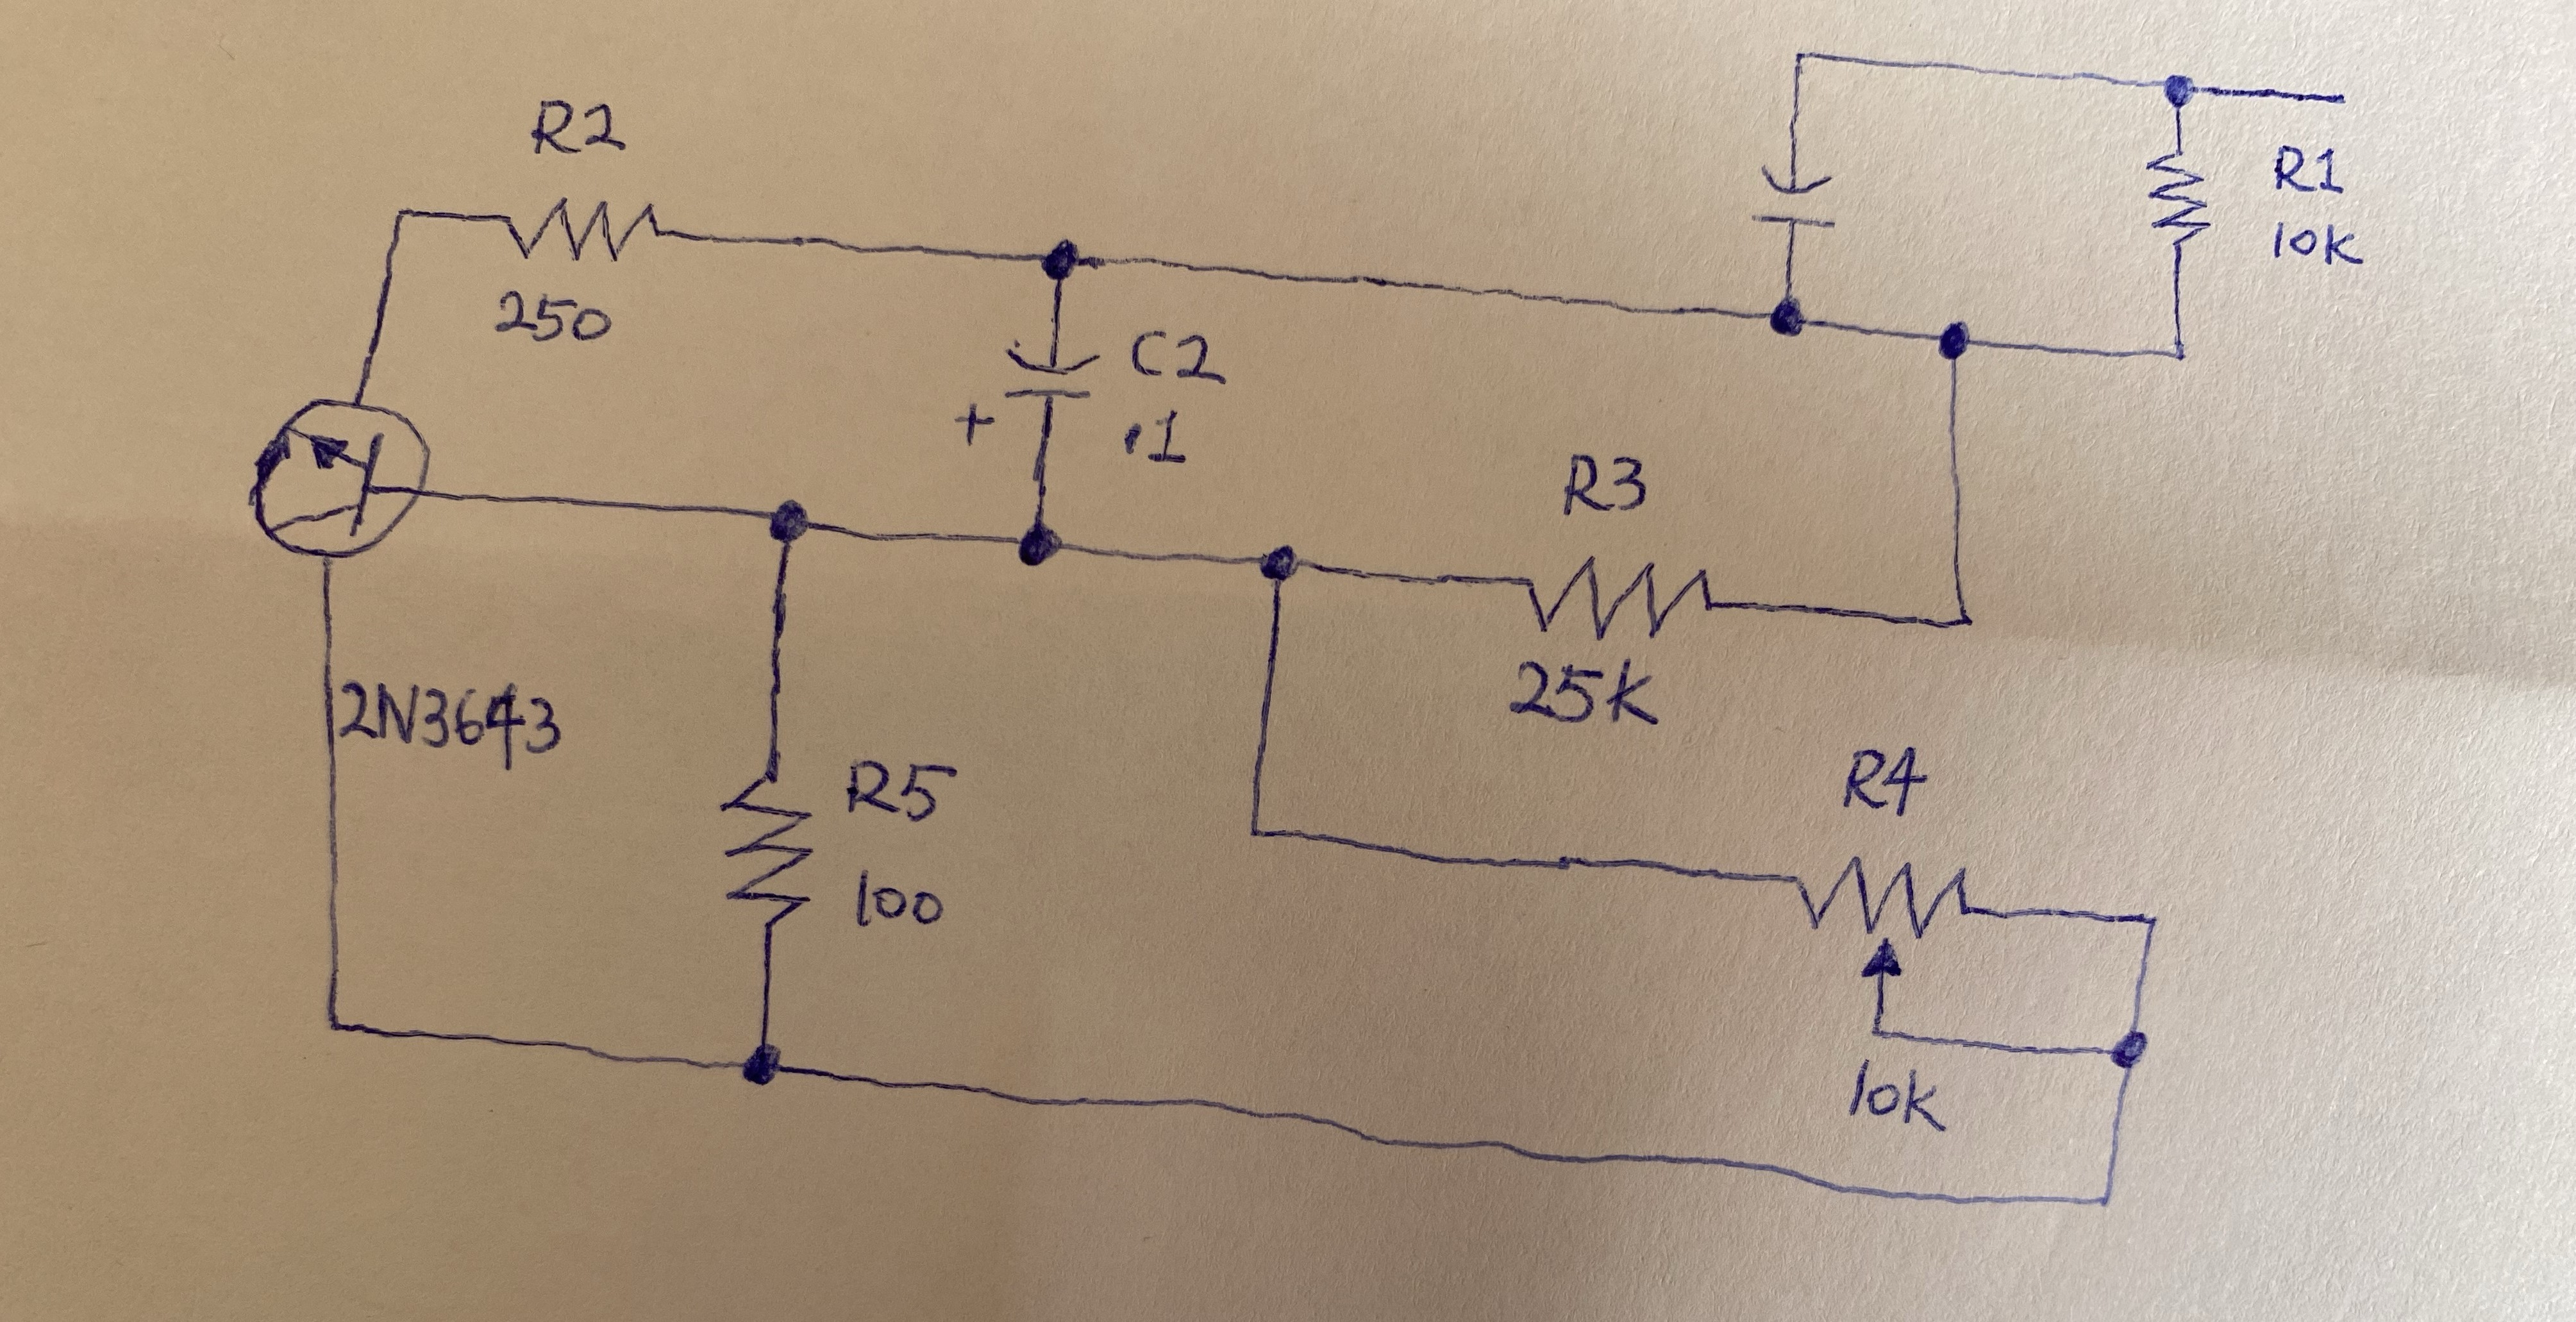capacitor.polarized: (951, 337, 1103, 447)
capacitor.unpolarized: (1741, 159, 1851, 239)
junction: (1219, 521, 1328, 609), (983, 501, 1084, 582), (743, 476, 836, 563), (1910, 288, 1998, 378), (715, 1025, 801, 1110), (2075, 1012, 2163, 1089), (1922, 578, 2004, 659), (300, 981, 378, 1062), (1752, 275, 1827, 352), (2106, 882, 2178, 958), (2141, 52, 2214, 126), (2069, 1172, 2146, 1241), (1219, 794, 1293, 863), (1025, 224, 1096, 293), (2141, 319, 2205, 386), (374, 185, 432, 245), (1775, 32, 1836, 88), (1851, 1007, 1907, 1052)
resistor: (710, 760, 818, 938), (1512, 556, 1726, 644), (497, 189, 679, 266), (2143, 140, 2227, 255)
resistor.adjustable: (1789, 852, 1979, 983)
terminal: (2289, 66, 2384, 121)
text: (339, 671, 573, 772), (1502, 653, 1674, 740), (841, 749, 964, 833), (528, 74, 631, 167), (1118, 314, 1237, 391), (1839, 1057, 1952, 1137), (482, 280, 617, 346), (1553, 443, 1664, 523), (848, 863, 954, 944), (1839, 735, 1932, 826), (2262, 214, 2379, 273), (1118, 403, 1212, 474), (2262, 135, 2353, 204)
transistor: (241, 383, 465, 580)
